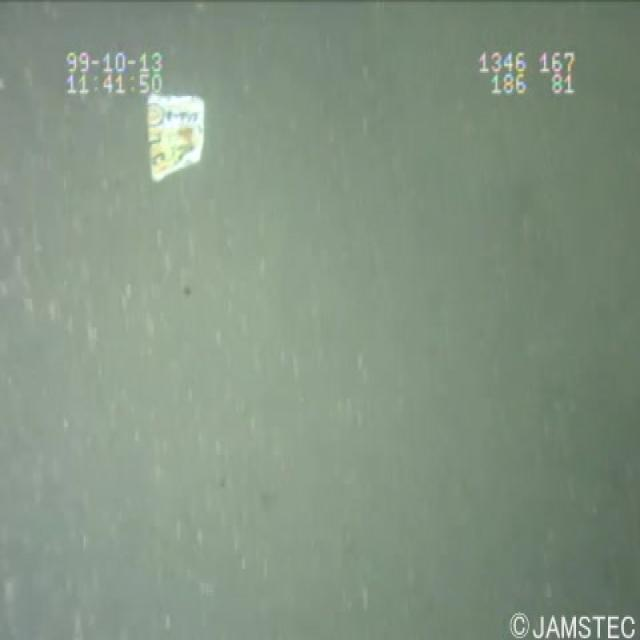plastic: (137, 84, 208, 183)
